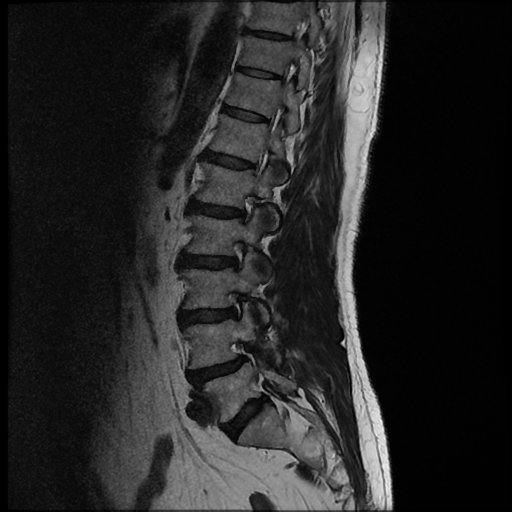LFS0: (219, 231, 254, 278), (227, 185, 264, 228)
LFS1: (217, 283, 253, 328)
